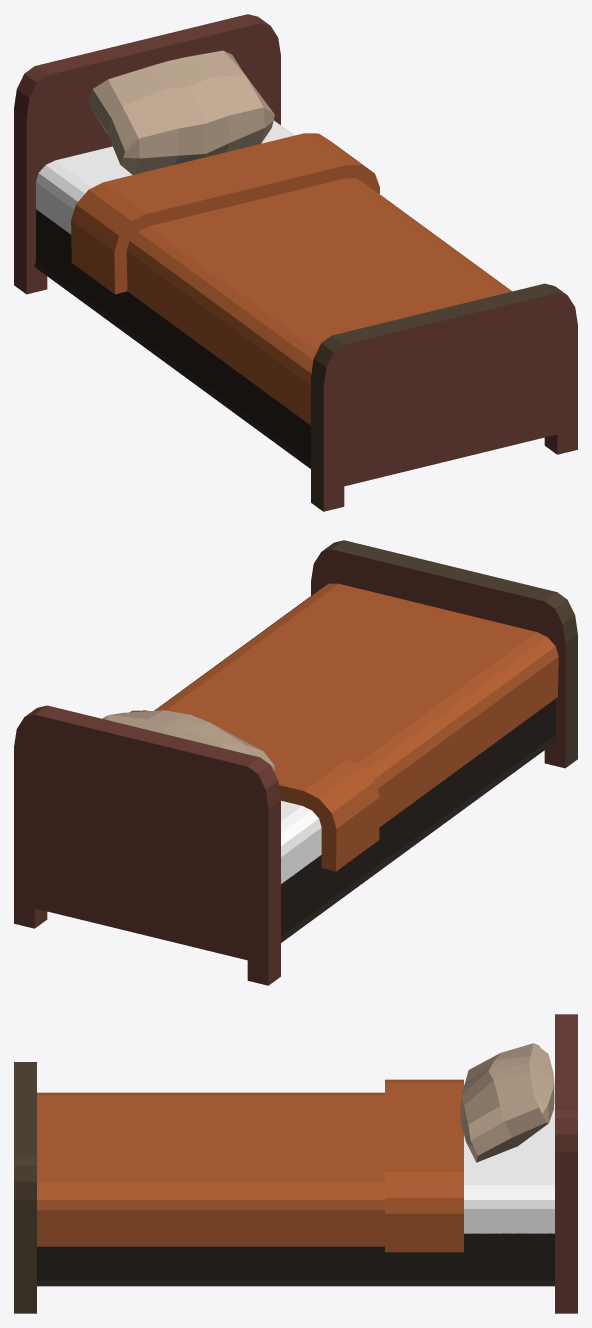
File: Prop_Bed_02.fbx
3 renders of one model, top to bottom at view 1: azimuth 30°, elevation 25°; view 2: azimuth 150°, elevation 25°; view 3: azimuth 270°, elevation 25°, orthographic. The views are drawn at different scales.
Visible parts, largest first — view 1: Prop_Bed_02; view 2: Prop_Bed_02; view 3: Prop_Bed_02.
Part boxes in pixels (x1,y1,x2,y2): Prop_Bed_02: (14,14,577,511); Prop_Bed_02: (14,540,577,985); Prop_Bed_02: (14,1014,577,1313).
Size of the model in its own units: 113 by 86.79 by 227.
